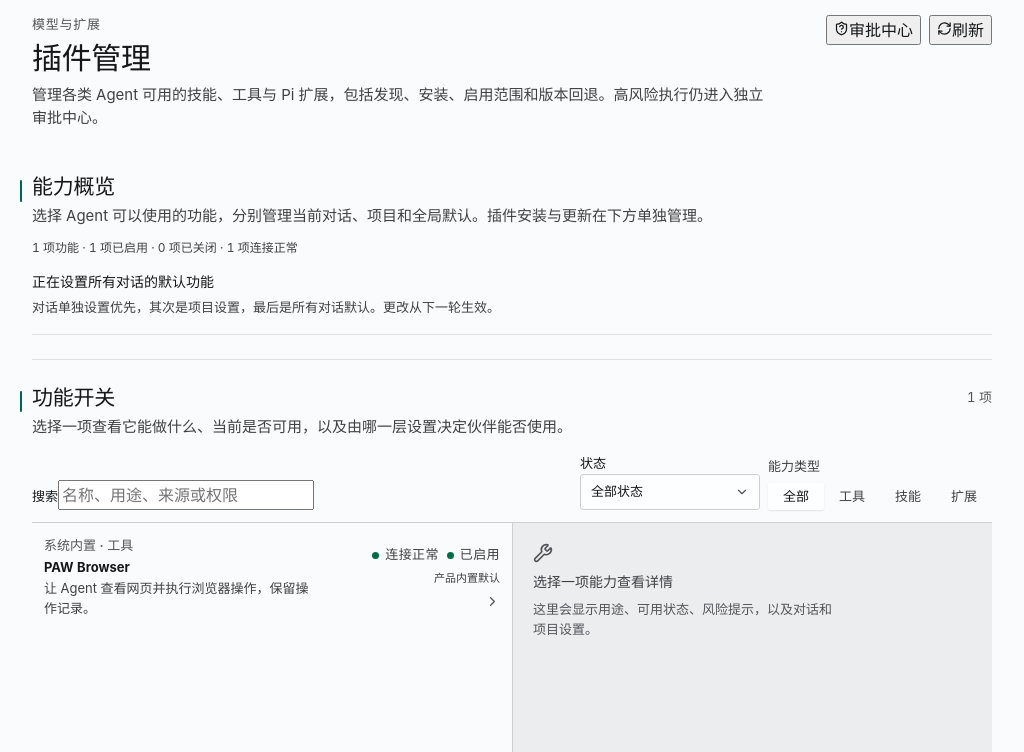
Test: PluginsFeature › uses browser meanings for script execution, navigation and traces
Click the button "PAW Browser": x=70, y=545 [32,523,512,631]
(page scrolled)
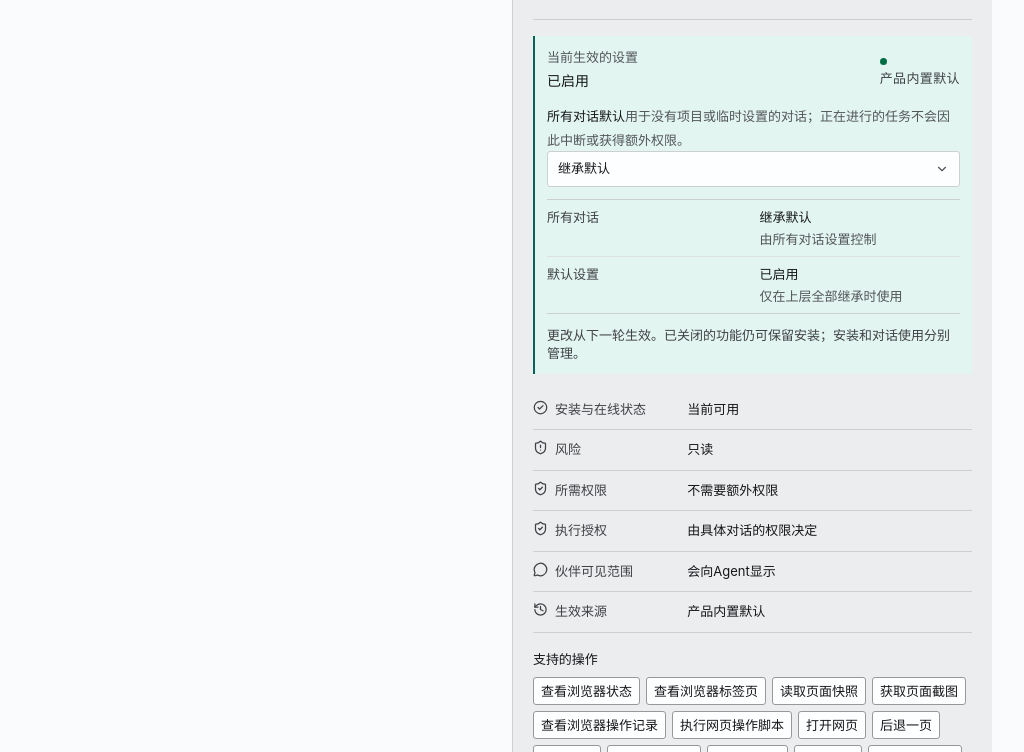
Expected: the list item "执行网页操作脚本" is shown, [672,711,792,739]
Expected: the list item "查看浏览器操作记录" is shown, [533,711,666,739]
Expected: the list item "后退一页" is shown, [872,711,940,739]
